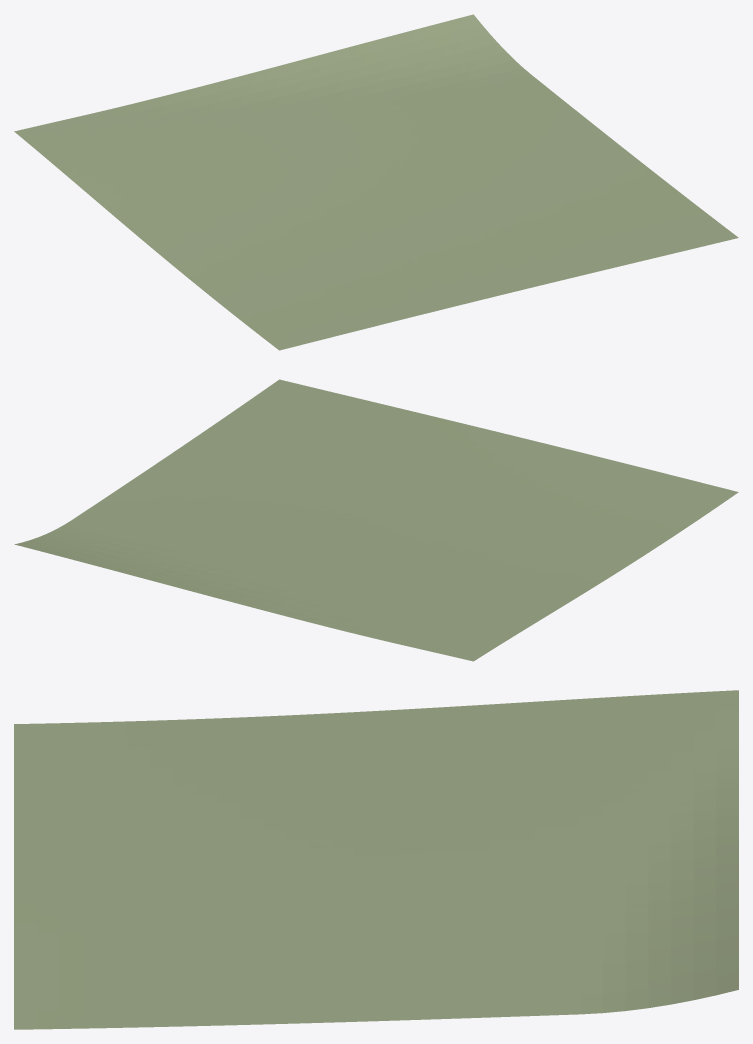
Rendered from desert-25-23.glb.
3 views of the same model, one above another, from view 1: azimuth 30°, elevation 25°; view 2: azimuth 150°, elevation 25°; view 3: azimuth 270°, elevation 25° (orthographic). The views are drawn at different scales.
Parts seen in each view (by area): view 1: desert-25-23; view 2: desert-25-23; view 3: desert-25-23.
Part boxes in pixels (<box>): desert-25-23: <box>14,14,738,350</box>; desert-25-23: <box>14,379,738,661</box>; desert-25-23: <box>14,690,738,1029</box>.
Size of the model in its own units: 512 by 31.72 by 512.
